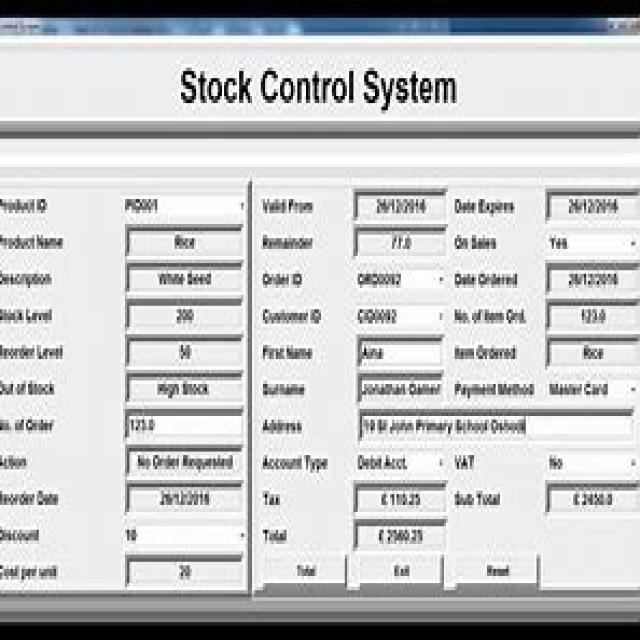button: (452, 551, 540, 589), (261, 548, 347, 586), (358, 553, 445, 587)
dropdownMenu: (122, 194, 246, 218), (122, 524, 245, 544), (355, 303, 444, 330), (546, 230, 640, 254), (356, 450, 445, 474), (545, 451, 638, 473), (356, 270, 445, 292), (547, 379, 638, 397)
input: (358, 409, 634, 440), (125, 551, 244, 587), (124, 333, 244, 368), (125, 295, 244, 329), (124, 224, 244, 257), (124, 444, 243, 477), (124, 480, 244, 512), (124, 408, 244, 438), (125, 262, 243, 292), (544, 479, 640, 515), (125, 373, 244, 402), (353, 479, 447, 514), (544, 185, 640, 219), (353, 224, 447, 258), (544, 298, 640, 331), (354, 519, 446, 552), (544, 260, 640, 291), (353, 189, 447, 220), (356, 372, 444, 404), (543, 334, 640, 363), (355, 334, 444, 365)
label: (175, 56, 464, 110), (452, 376, 540, 403), (259, 452, 332, 476), (0, 341, 67, 366), (0, 232, 71, 255), (452, 340, 520, 364), (452, 305, 530, 325), (452, 267, 519, 290), (0, 377, 64, 401), (0, 413, 57, 439), (259, 305, 325, 327), (0, 268, 59, 292), (261, 194, 319, 218), (451, 488, 508, 512), (453, 197, 518, 218), (0, 303, 54, 328), (0, 192, 53, 217), (0, 486, 66, 506), (0, 558, 62, 579), (260, 343, 318, 365), (0, 519, 41, 548), (260, 232, 318, 252), (261, 377, 309, 400), (259, 268, 307, 291), (258, 414, 308, 436), (453, 234, 502, 251), (0, 450, 34, 474), (260, 489, 292, 512), (452, 450, 482, 472), (260, 526, 294, 545)
